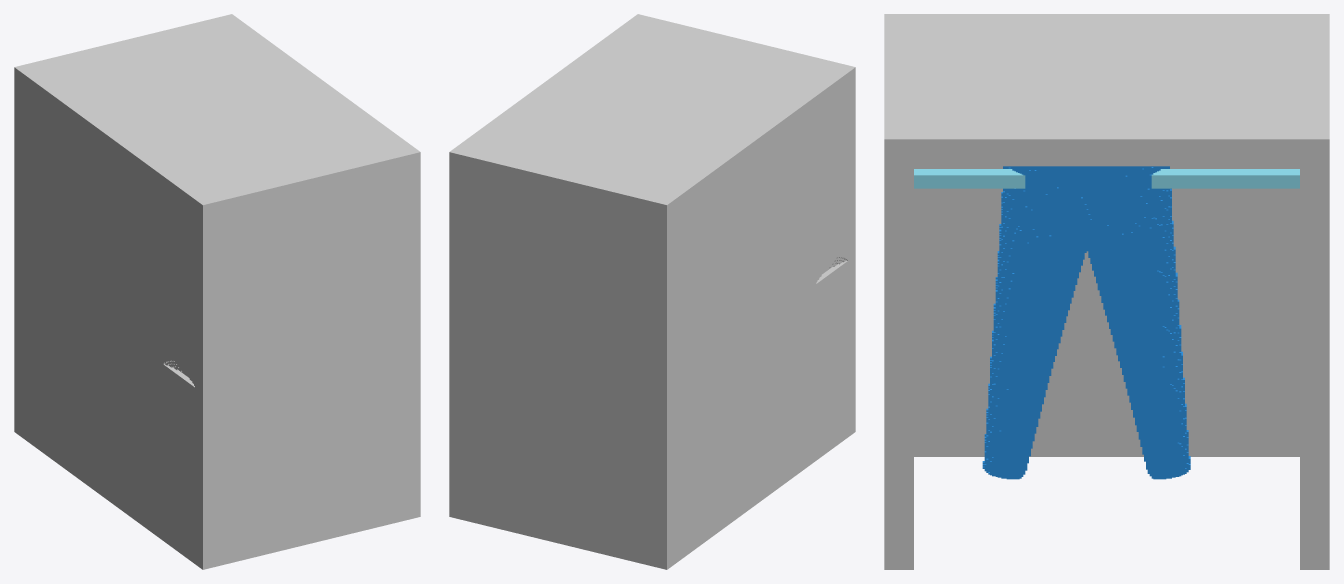
File: cabin.dae
3 renders of one model, left to right at view 1: azimuth 30°, elevation 25°; view 2: azimuth 150°, elevation 25°; view 3: azimuth 270°, elevation 25°, orthographic. The views are drawn at different scales.
Visible parts, largest first — view 1: defaultobject; view 2: defaultobject; view 3: defaultobject (×3).
Boxes of the visible parts, box(x1,y1,x2,y2) form: defaultobject: box(14, 14, 420, 569); defaultobject: box(449, 14, 855, 569); defaultobject (×3): box(884, 14, 1329, 569).
Bounding box in the file's own units: 40 × 64 × 60.
